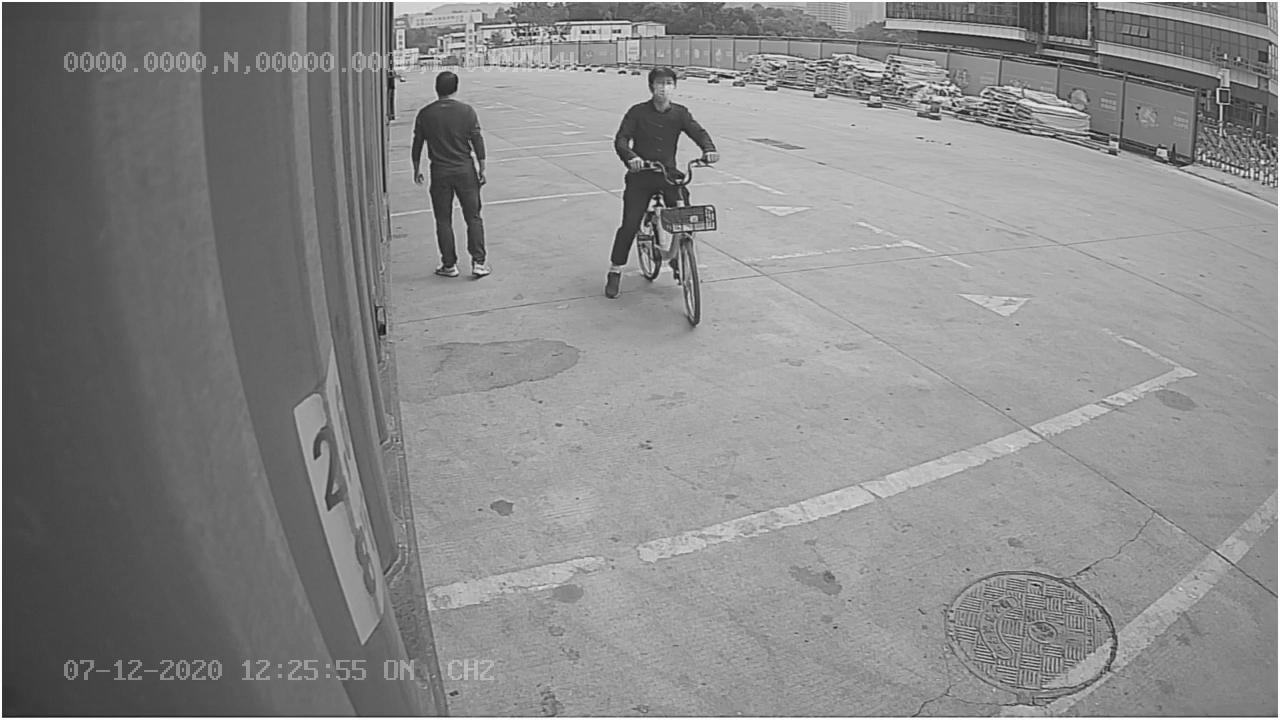person: (407, 69, 494, 284)
